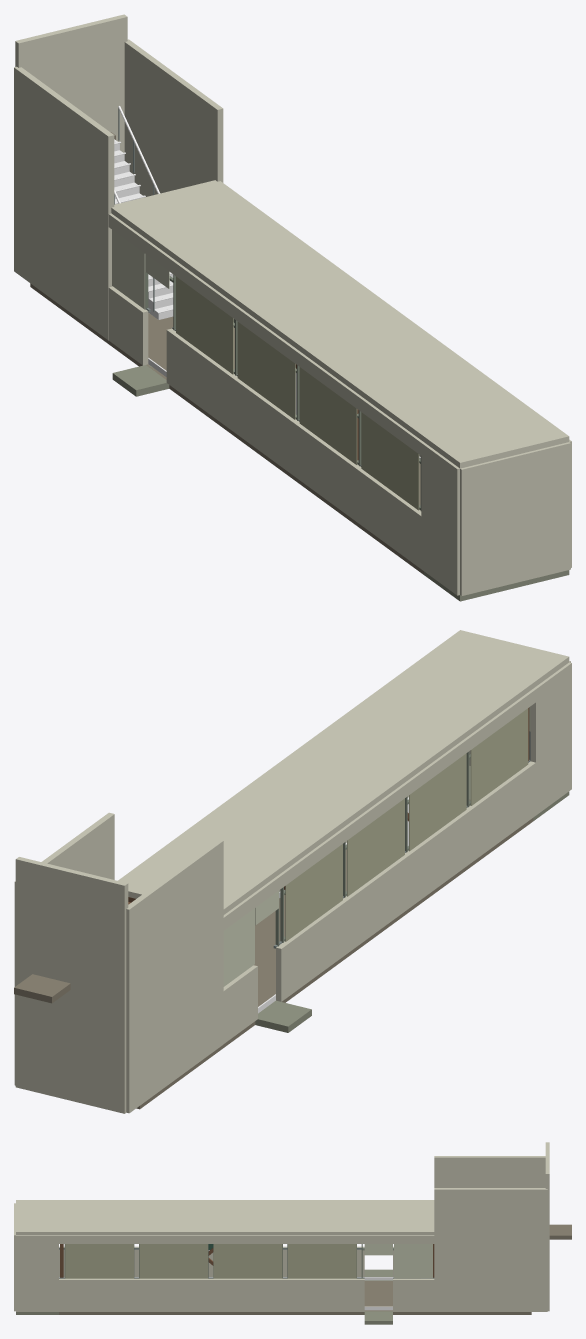
Rendered from corridor_v2_visual.glb.
3 renders of one model, top to bottom at view 1: azimuth 30°, elevation 25°; view 2: azimuth 150°, elevation 25°; view 3: azimuth 270°, elevation 25°, orthographic. The views are drawn at different scales.
Parts seen in each view (by area): view 1: VIS_corridor_SCH | old ivory plaster, VIS_corridor_SCH | old ivory plaster.001, VIS_corridor_SCH | old ivory plaster.002, VIS_corridor_CORRIDOR | warm frosted classroom inner panes, VIS_corridor_CORRIDOR | warm worn grey floor, VIS_corridor_SCH | faded cream curtain.001, VIS_corridor_SCH | honey birch plywood, VIS_corridor_SCH | olive linoleum.001, VIS_corridor_CORRIDOR | grey green door frame, VIS_corridor_SCH | olive linoleum; view 2: VIS_corridor_SCH | old ivory plaster, VIS_corridor_SCH | old ivory plaster.002, VIS_corridor_CORRIDOR | warm frosted classroom inner panes, VIS_corridor_SCH | old ivory plaster.001, VIS_corridor_CORRIDOR | warm worn grey floor, VIS_corridor_SCH | faded cream curtain.001, VIS_corridor_SCH | olive linoleum.001, VIS_corridor_CORRIDOR | grey green door frame; view 3: VIS_corridor_SCH | old ivory plaster, VIS_corridor_SCH | old ivory plaster.002, VIS_corridor_CORRIDOR | warm frosted classroom inner panes, VIS_corridor_SCH | old ivory plaster.001, VIS_corridor_CORRIDOR | warm worn grey floor, VIS_corridor_SCH | faded cream curtain.001, VIS_corridor_SCH | olive linoleum.001, VIS_corridor_CORRIDOR | grey green door frame, VIS_corridor_SCH | dark walnut cabinets, VIS_corridor_CORRIDOR | aged oxide red structural steel.
Boxes of the visible parts, x1,y1,x2,y2 form: VIS_corridor_SCH | old ivory plaster: (14,14,532,455); VIS_corridor_SCH | old ivory plaster.001: (421,410,571,595); VIS_corridor_SCH | old ivory plaster.002: (108,286,421,568); VIS_corridor_CORRIDOR | warm frosted classroom inner panes: (176,276,419,510); VIS_corridor_CORRIDOR | warm worn grey floor: (30,132,423,574); VIS_corridor_SCH | faded cream curtain.001: (112,230,169,309); VIS_corridor_SCH | honey birch plywood: (114,106,296,414); VIS_corridor_SCH | olive linoleum.001: (112,364,169,396); VIS_corridor_CORRIDOR | grey green door frame: (145,272,421,510); VIS_corridor_SCH | olive linoleum: (424,570,569,601); VIS_corridor_SCH | old ivory plaster: (14,656,535,1113); VIS_corridor_SCH | old ivory plaster.002: (223,761,535,1043); VIS_corridor_CORRIDOR | warm frosted classroom inner panes: (285,708,528,941); VIS_corridor_SCH | old ivory plaster.001: (425,630,571,815); VIS_corridor_CORRIDOR | warm worn grey floor: (14,799,533,1109); VIS_corridor_SCH | faded cream curtain.001: (223,891,278,986); VIS_corridor_SCH | olive linoleum.001: (255,1000,311,1032); VIS_corridor_CORRIDOR | grey green door frame: (275,751,470,946); VIS_corridor_SCH | old ivory plaster: (59,1142,549,1311); VIS_corridor_SCH | old ivory plaster.002: (59,1246,434,1311); VIS_corridor_CORRIDOR | warm frosted classroom inner panes: (65,1244,356,1278); VIS_corridor_SCH | old ivory plaster.001: (14,1200,58,1311); VIS_corridor_CORRIDOR | warm worn grey floor: (59,1224,571,1314); VIS_corridor_SCH | faded cream curtain.001: (364,1244,432,1278); VIS_corridor_SCH | olive linoleum.001: (364,1269,392,1324); VIS_corridor_CORRIDOR | grey green door frame: (64,1244,430,1278); VIS_corridor_SCH | dark walnut cabinets: (59,1277,393,1310); VIS_corridor_CORRIDOR | aged oxide red structural steel: (60,1244,434,1277).
Bounding box in the file's own units: 4.5 × 5.76 × 20.67.
